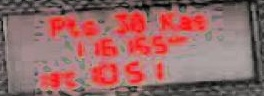0: (126, 9, 145, 33), (96, 62, 115, 84)
1: (36, 68, 46, 91), (153, 59, 163, 82), (74, 38, 83, 58), (125, 36, 133, 56), (91, 38, 98, 57), (90, 63, 96, 84)
3: (113, 11, 126, 35), (48, 69, 58, 88)
5: (123, 60, 143, 83), (150, 33, 166, 53)
6: (133, 35, 148, 55), (100, 37, 115, 56)
X: (155, 8, 173, 31), (48, 14, 63, 38), (65, 17, 80, 38), (61, 69, 78, 87), (190, 11, 206, 30), (80, 18, 96, 35), (175, 13, 190, 29), (175, 34, 185, 42), (167, 33, 173, 42)
